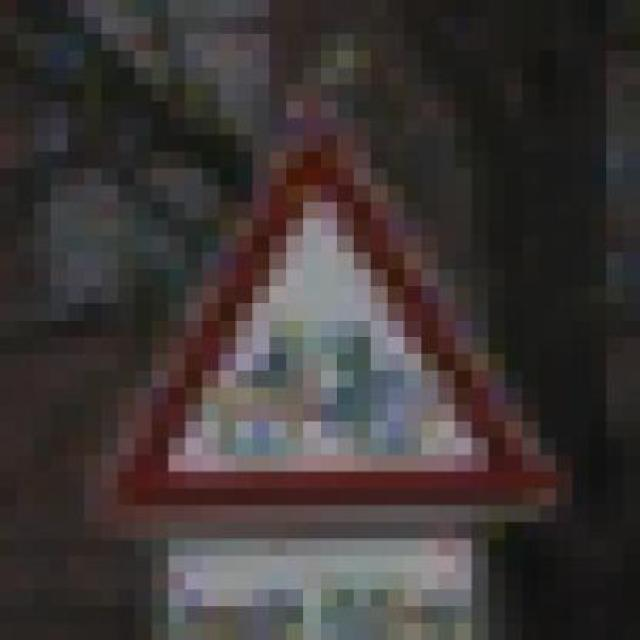CYCLE ROUTE AHEAD WARNING: (84, 84, 573, 539)
